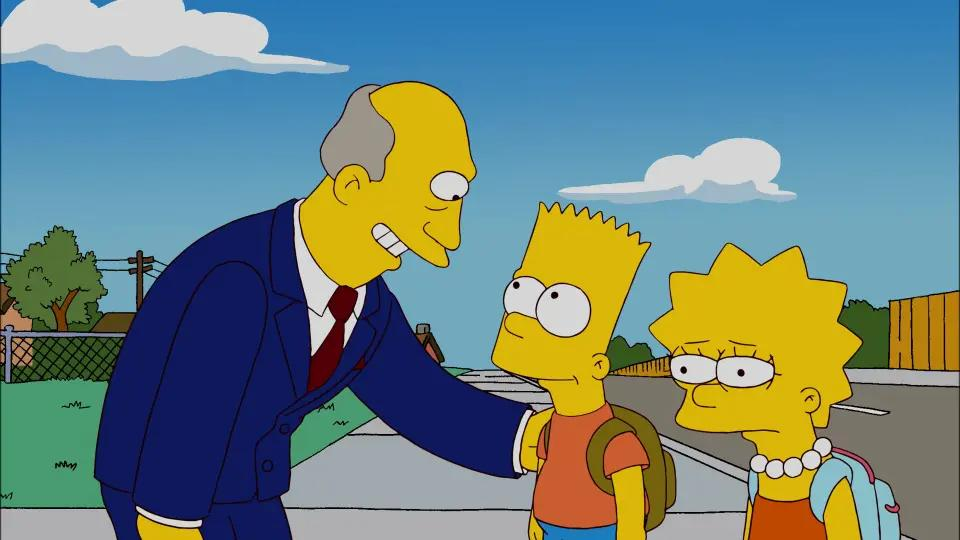Bart: (489, 177, 664, 535)
Lisa: (654, 232, 908, 540)
